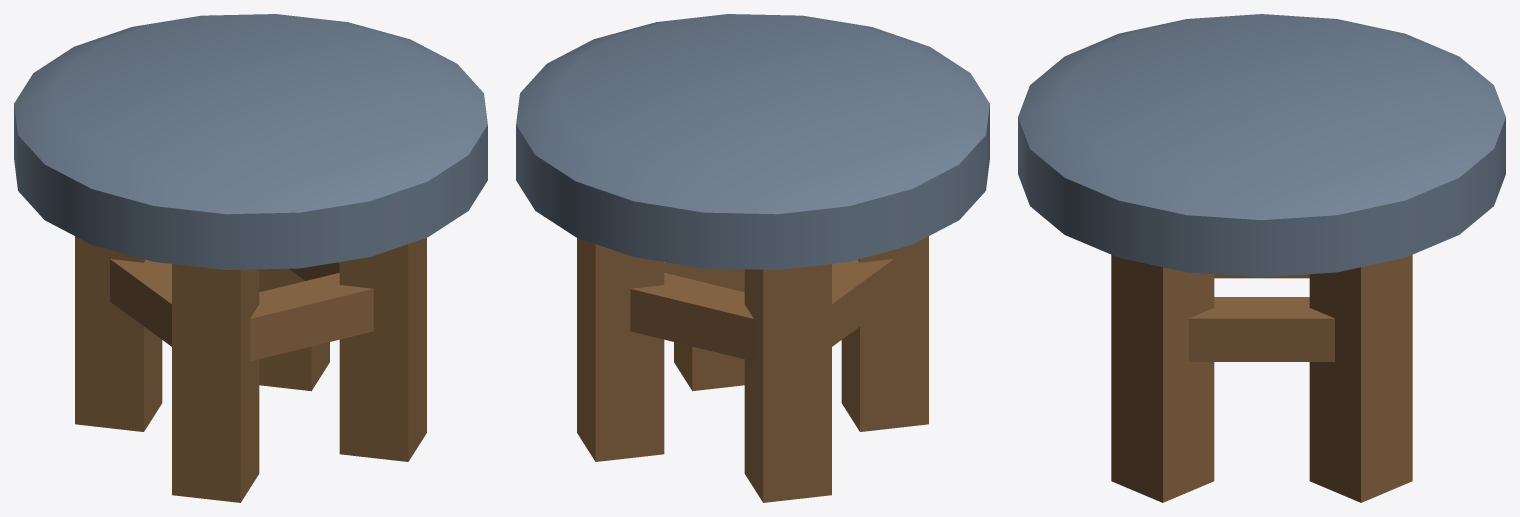
Rendered from stool.glb.
The picture shows the model from 3 angles, left to right: view 1: azimuth 30°, elevation 25°; view 2: azimuth 150°, elevation 25°; view 3: azimuth 270°, elevation 25°; orthographic projection. The views are drawn at different scales.
Visible parts, largest first — view 1: Environment_Stool; view 2: Environment_Stool; view 3: Environment_Stool.
Boxes of the visible parts, <box> form: Environment_Stool: <box>14,14,487,502</box>; Environment_Stool: <box>516,14,989,502</box>; Environment_Stool: <box>1018,14,1505,502</box>.
Bounding box in the file's own units: 1.14 × 0.8765 × 1.14.
